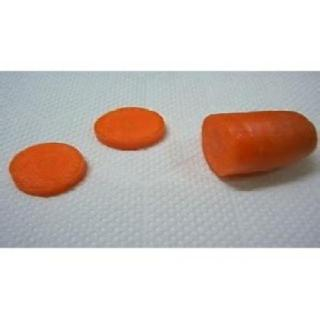carrot: (193, 103, 319, 185)
